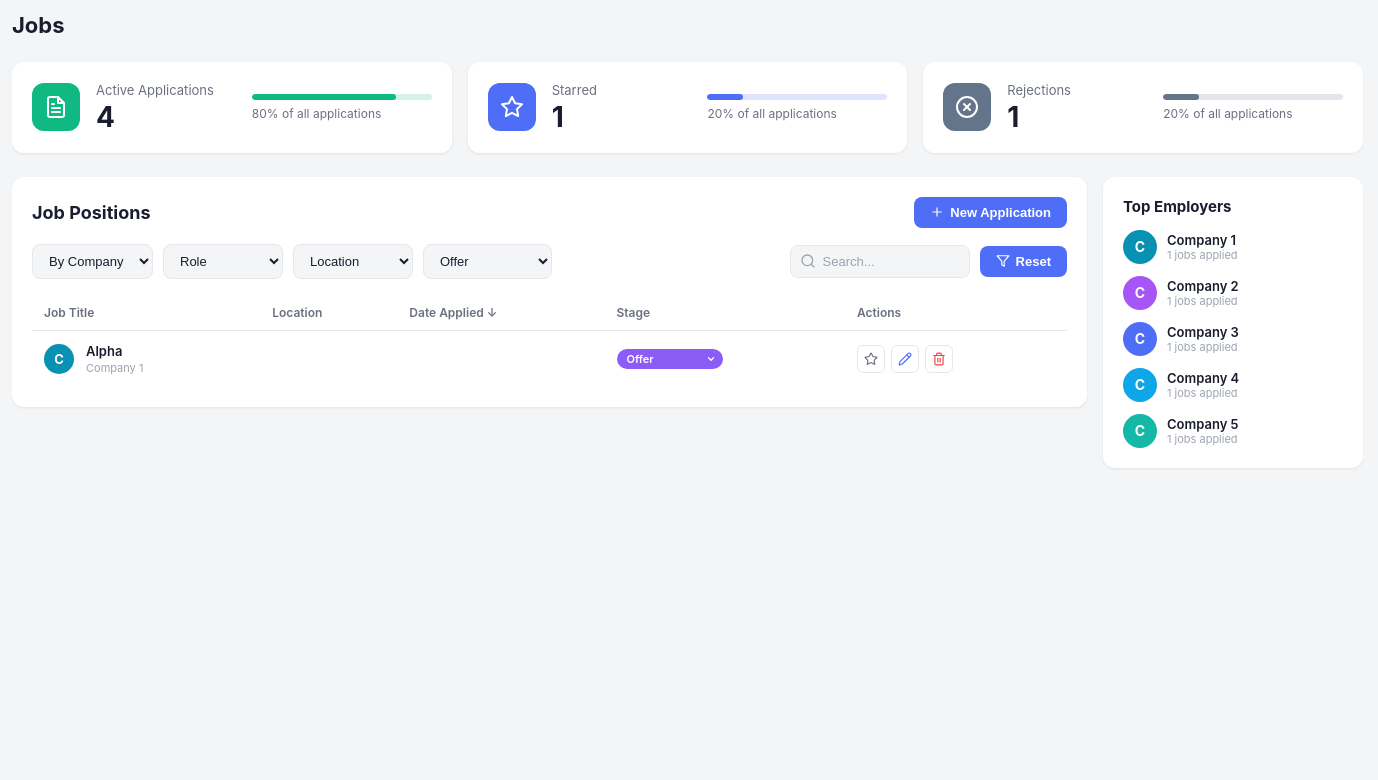
Test case: Jobs stage filter and cards › opens filtered to the stage in the URL, and Reset shows everything again
The width and height of the screenshot is (1378, 780).
Expected: the dropdown named "Stage" shows "Offer", top-left (423, 244), bottom-right (552, 279)
Click the button "Reset": (1023, 261) top-left (980, 246), bottom-right (1067, 277)
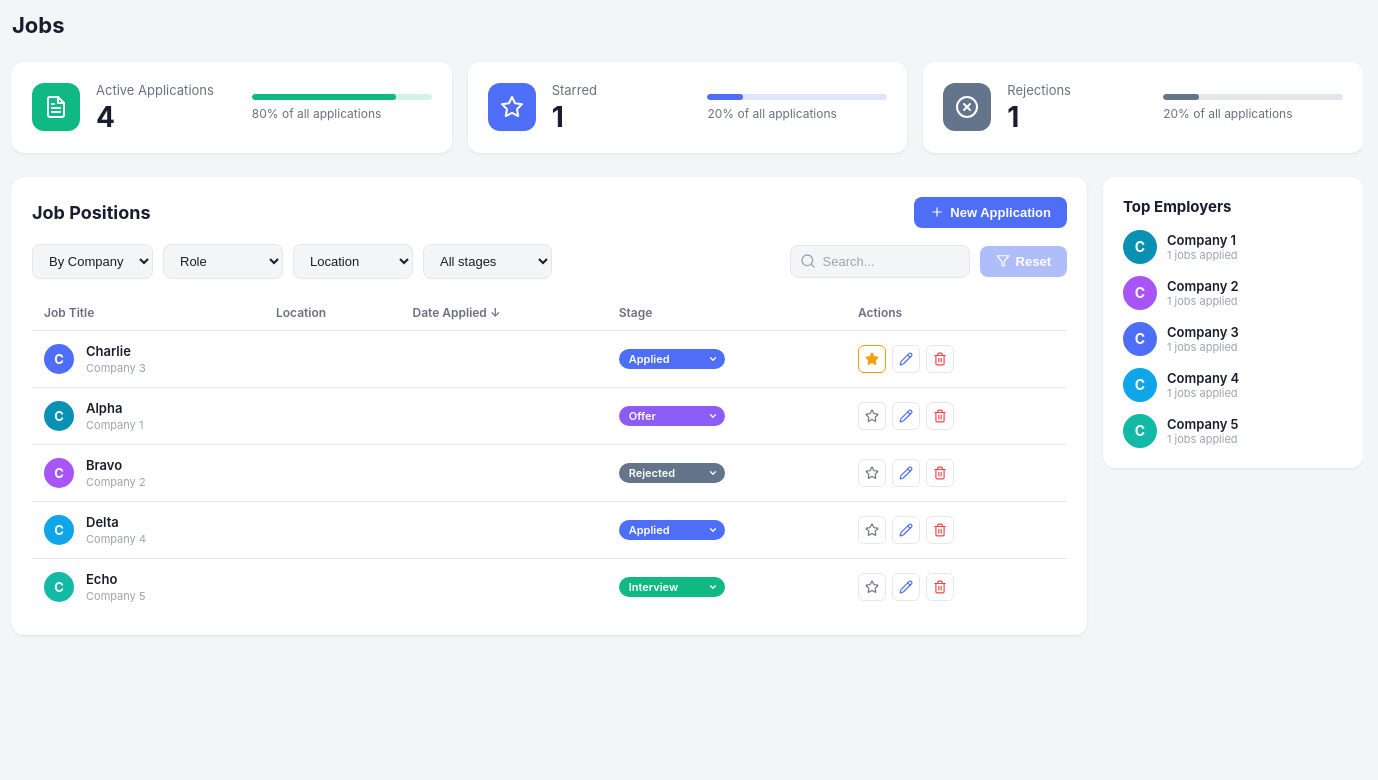
Expected: the dropdown named "Stage" shows "All stages", top-left (423, 244), bottom-right (552, 279)
